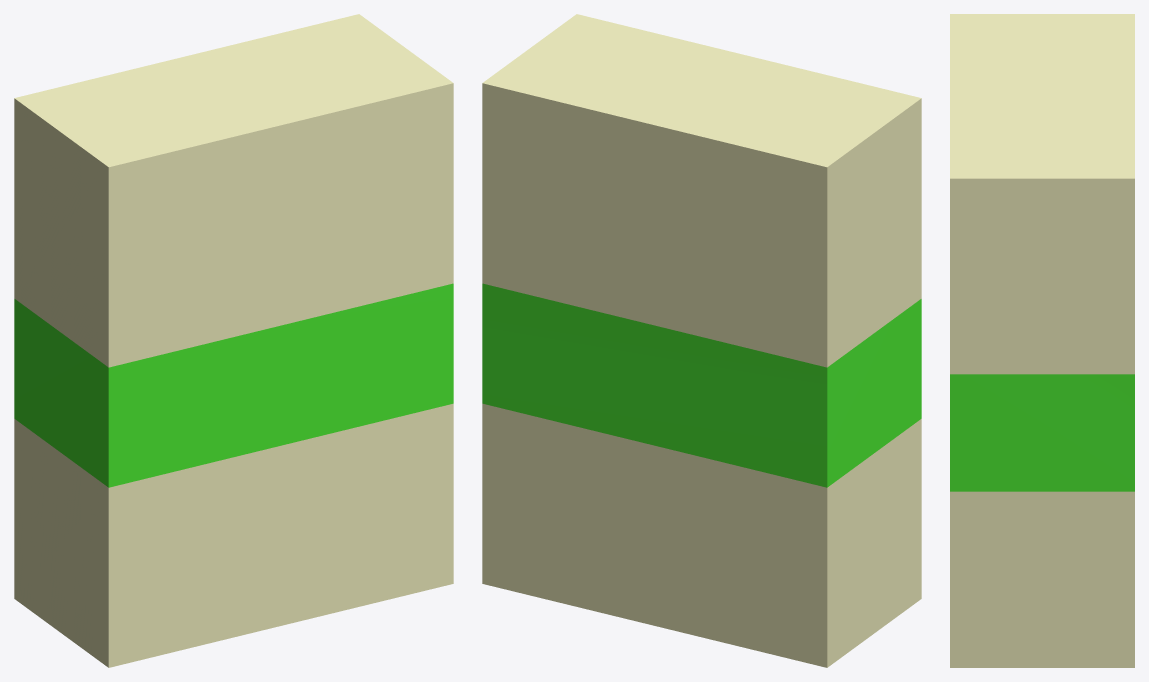
Rendered from Ürün88.fbx.
3 renders of one model, left to right at view 1: azimuth 30°, elevation 25°; view 2: azimuth 150°, elevation 25°; view 3: azimuth 270°, elevation 25°, orthographic. The views are drawn at different scales.
Parts seen in each view (by area): view 1: Ürün13; view 2: Ürün13; view 3: Ürün13.
Part boxes in pixels (x1,y1,x2,y2): Ürün13: (14, 14, 453, 667); Ürün13: (482, 14, 921, 667); Ürün13: (950, 14, 1134, 667).
Size of the model in its own units: 23.51 by 32.6 by 11.16.
